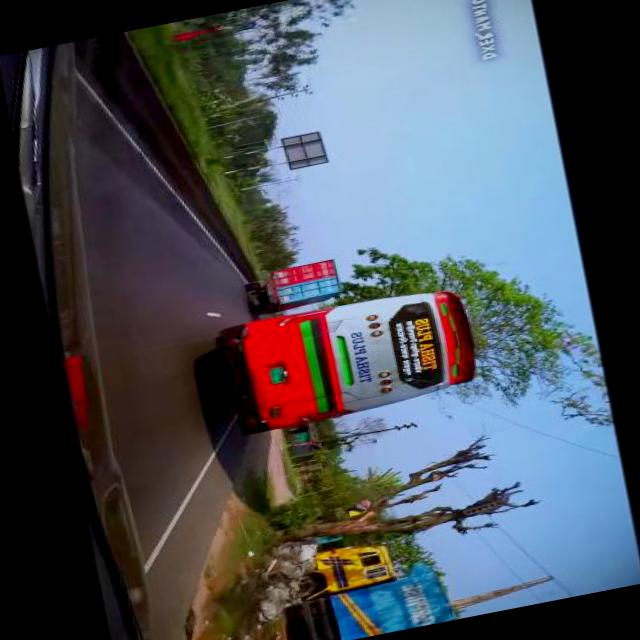bus: (217, 281, 486, 439)
truck: (288, 529, 456, 640), (245, 258, 345, 318)
